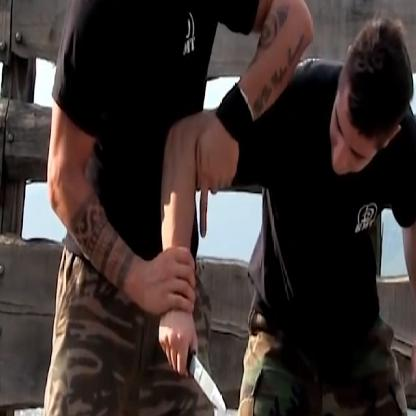knife: (157, 315, 232, 415)
